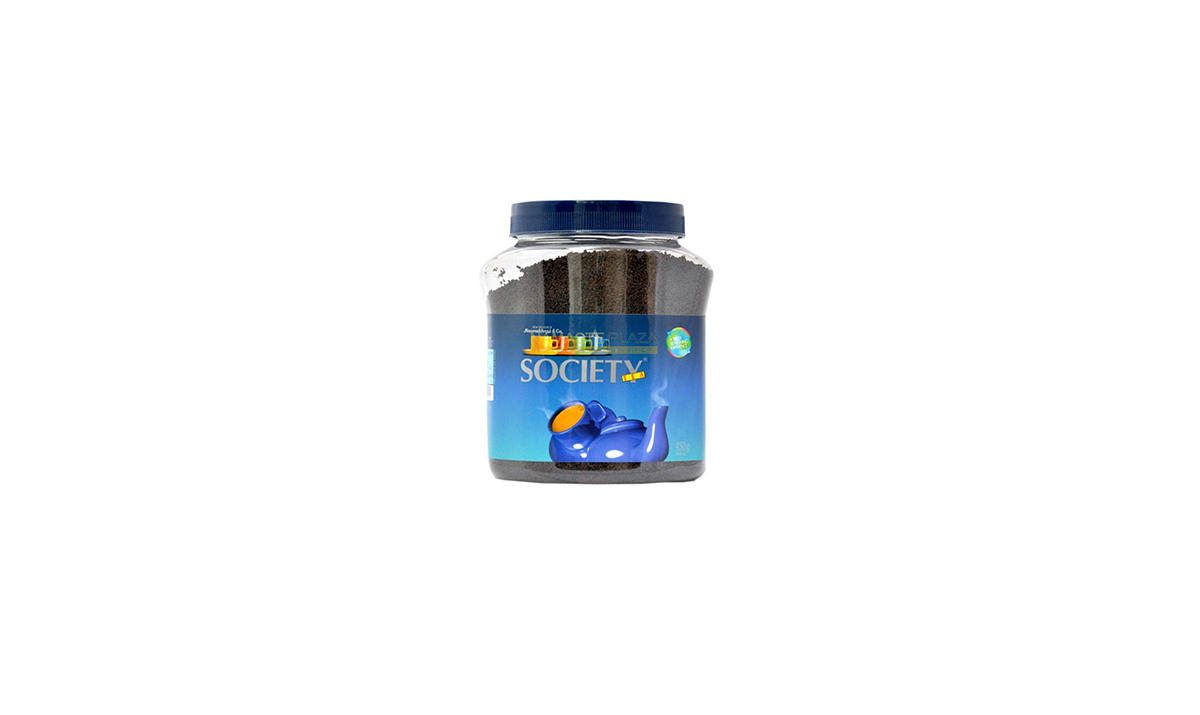society: (477, 304, 717, 475)
